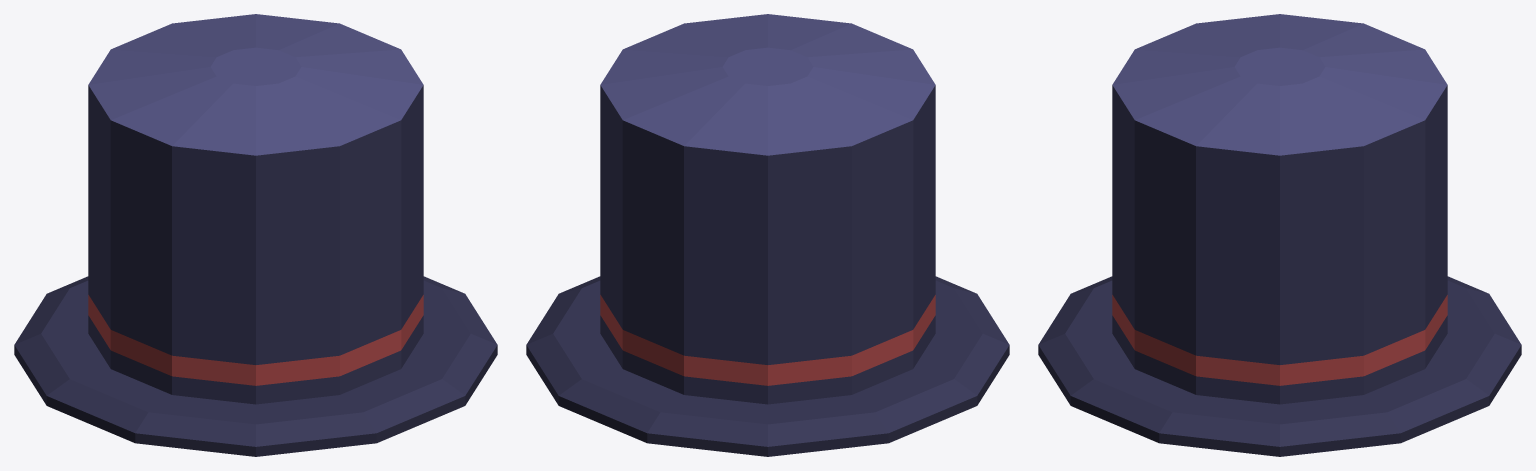
Rendered from hat.fbx.
3 views of the same model, side by side, from view 1: azimuth 30°, elevation 25°; view 2: azimuth 150°, elevation 25°; view 3: azimuth 270°, elevation 25° (orthographic).
Parts seen in each view (by area): view 1: Cylinder; view 2: Cylinder; view 3: Cylinder.
Boxes of the visible parts, <box> form: Cylinder: <box>14,14,497,456</box>; Cylinder: <box>526,14,1009,456</box>; Cylinder: <box>1038,14,1521,456</box>.
Bounding box in the file's own units: 100 × 65.76 × 100.
